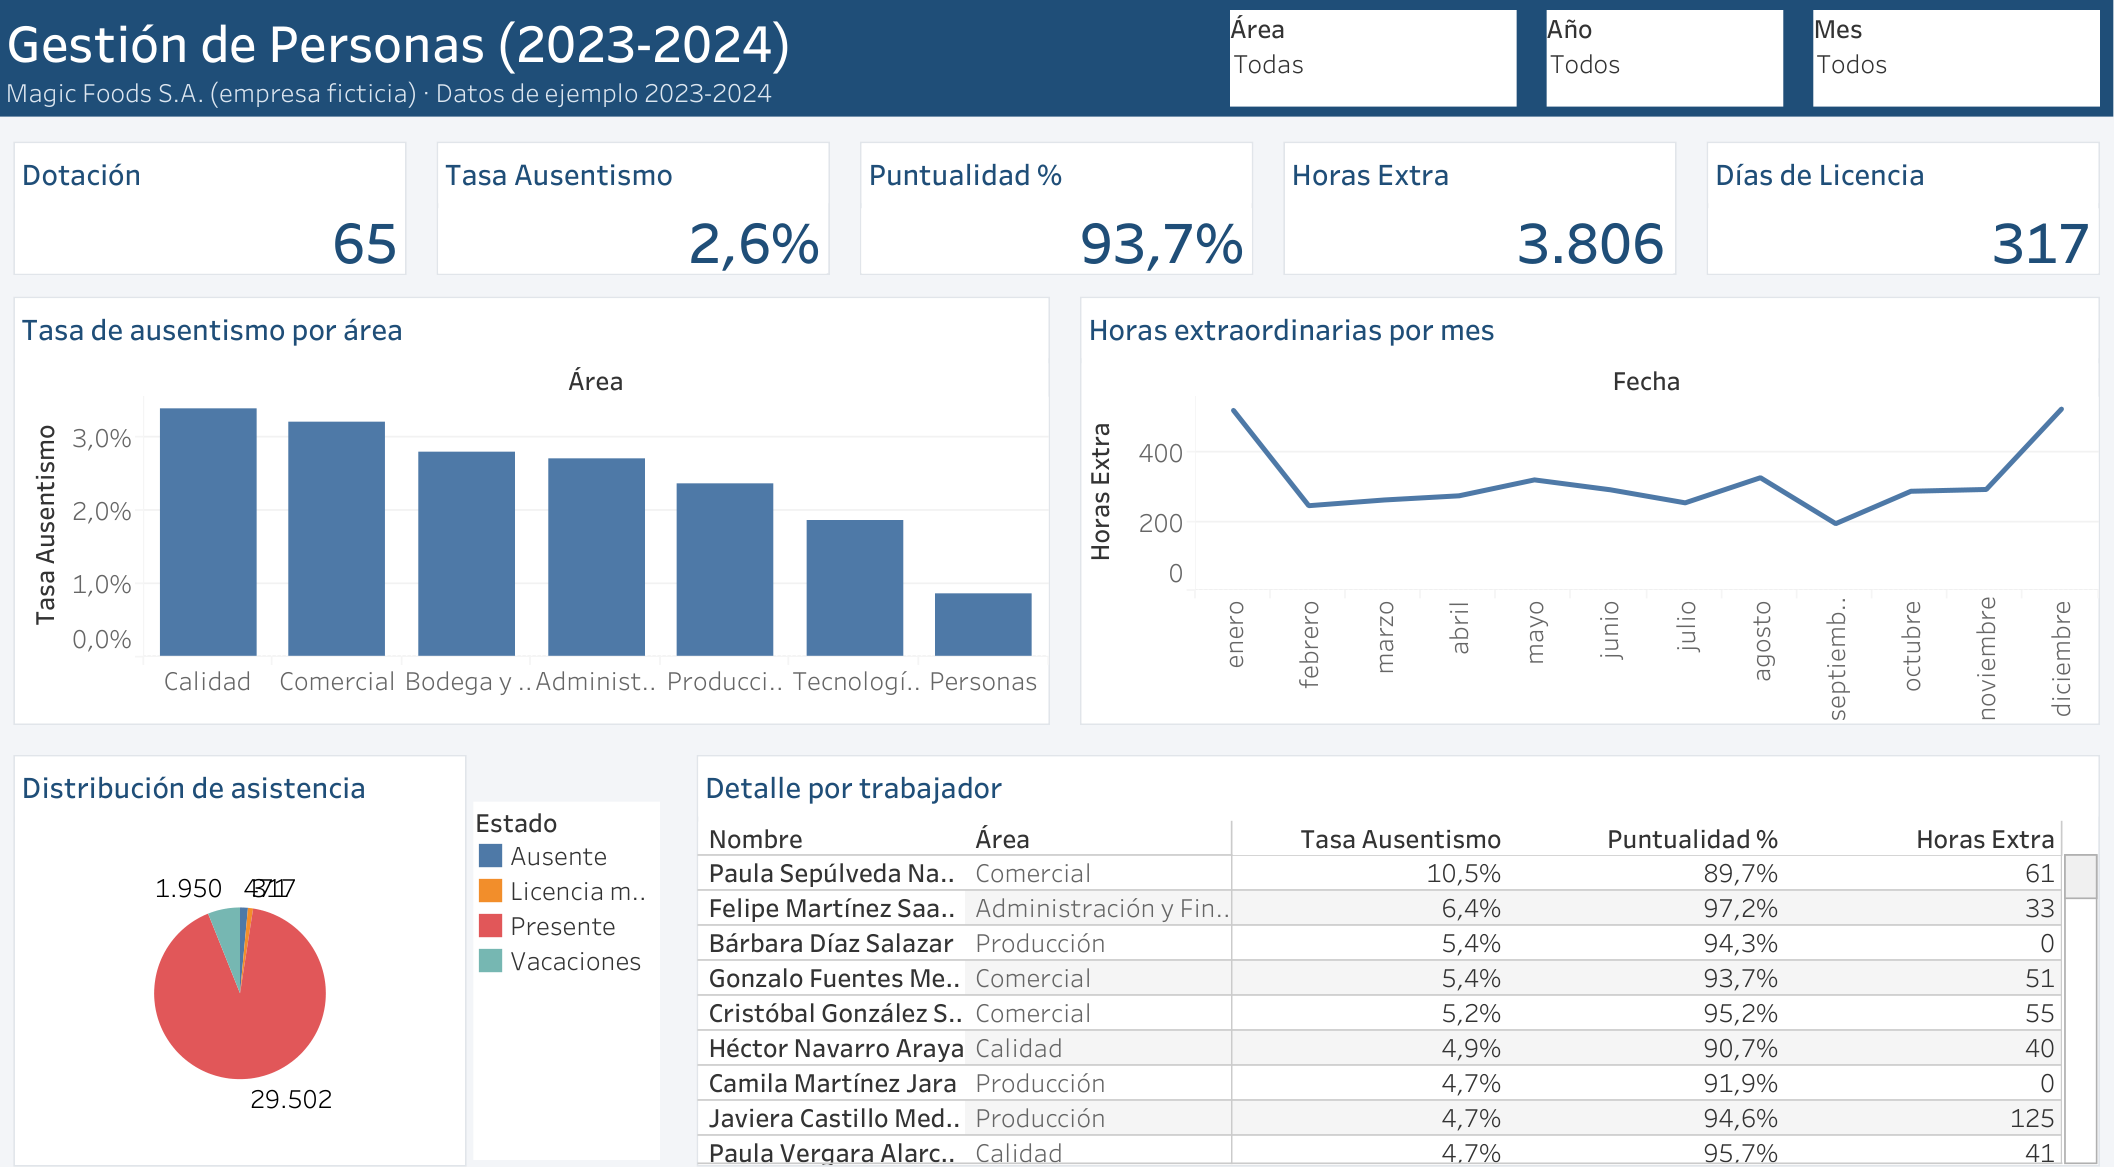

The page's visual inventory and layout, read from the dashboard file:
{"tool":"tableau","page":{"name":"Personas","canvas":[1280,720],"ordinal":5},"visuals":[{"type":"text","box":[0,0,1280,82]},{"type":"parameter","param":"[Parameters].[pArea]","box":[740,8,180,66]},{"type":"parameter","param":"[Parameters].[pAnio]","box":[930,8,150,66]},{"type":"parameter","param":"[Parameters].[pMes]","box":[1090,8,180,66]},{"type":"worksheet","title":"E · Dotacion","mark":"Text","box":[10,87,244,88]},{"type":"worksheet","title":"E · Ausentismo","mark":"Text","box":[264,87,244,88]},{"type":"worksheet","title":"E · Puntualidad","mark":"Text","box":[518,87,244,88]},{"type":"worksheet","title":"E · Horas Extra","mark":"Text","box":[772,87,244,88]},{"type":"worksheet","title":"E · Dias Licencia","mark":"Text","box":[1026,87,244,88]},{"type":"worksheet","title":"E · Ausentismo Area","mark":"Bar","rows":["Ausent"],"cols":["Area"],"box":[10,180,630,265]},{"type":"worksheet","title":"E · Horas Extra Mes","mark":"Line","rows":["HE"],"cols":["Fecha"],"box":[650,180,620,265]},{"type":"worksheet","title":"E · Distribucion Asistencia","mark":"Pie","box":[10,455,280,255]},{"type":"worksheet","title":"E · Detalle Trabajador","mark":"Text","rows":["Nombre","Area"],"box":[420,455,850,255]},{"type":"legend","title":"E · Distribucion Asistencia","param":"[federated.b36174ebb807eba85885a6888b7b].[none:Estado:nk]","box":[290,487,112,215]}]}

Visuals, with their boxes in screenshot pixels (x1, y1, x2, y2), scaled from the page's 1280x720 canvas onto the 2114x1167 screenshot:
text: (left=0, top=0, right=2113, bottom=133)
parameter: (left=1222, top=13, right=1519, bottom=120)
parameter: (left=1536, top=13, right=1784, bottom=120)
parameter: (left=1800, top=13, right=2097, bottom=120)
"E · Dotacion" worksheet (Text marks): (left=17, top=141, right=419, bottom=284)
"E · Ausentismo" worksheet (Text marks): (left=436, top=141, right=839, bottom=284)
"E · Puntualidad" worksheet (Text marks): (left=856, top=141, right=1258, bottom=284)
"E · Horas Extra" worksheet (Text marks): (left=1275, top=141, right=1678, bottom=284)
"E · Dias Licencia" worksheet (Text marks): (left=1695, top=141, right=2097, bottom=284)
"E · Ausentismo Area" worksheet (Bar marks): (left=17, top=292, right=1057, bottom=721)
"E · Horas Extra Mes" worksheet (Line marks): (left=1074, top=292, right=2097, bottom=721)
"E · Distribucion Asistencia" worksheet (Pie marks): (left=17, top=737, right=479, bottom=1151)
"E · Detalle Trabajador" worksheet (Text marks): (left=694, top=737, right=2097, bottom=1151)
"E · Distribucion Asistencia" legend: (left=479, top=789, right=664, bottom=1138)
